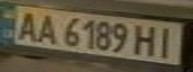1: (78, 17, 96, 50)
6: (60, 15, 84, 47)
8: (93, 18, 115, 52)
9: (109, 20, 133, 54)
A: (9, 8, 42, 42), (30, 11, 60, 45)
H: (130, 21, 163, 56)
I: (151, 25, 181, 58)
